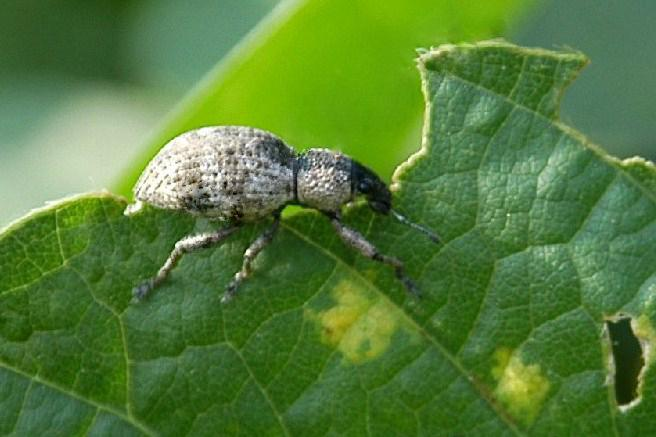Curculionidae: (120, 124, 441, 308)
